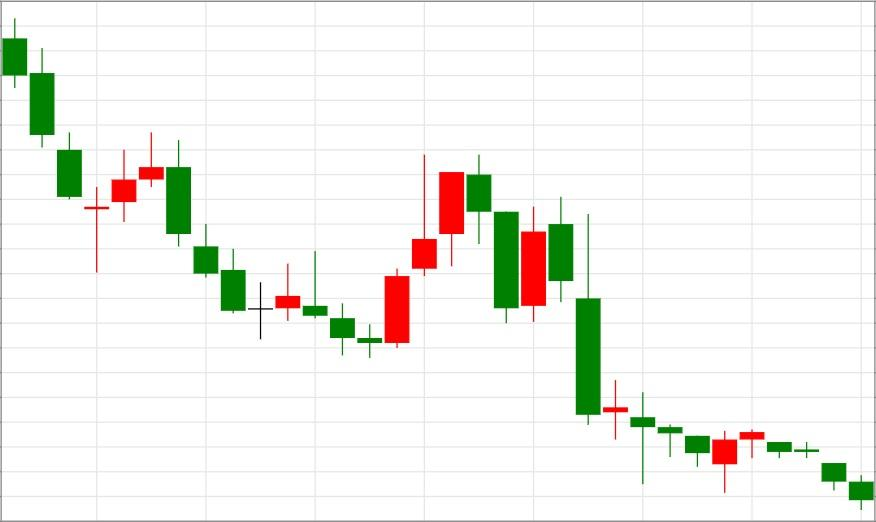three_black_crows_fall: (83, 131, 246, 313)
